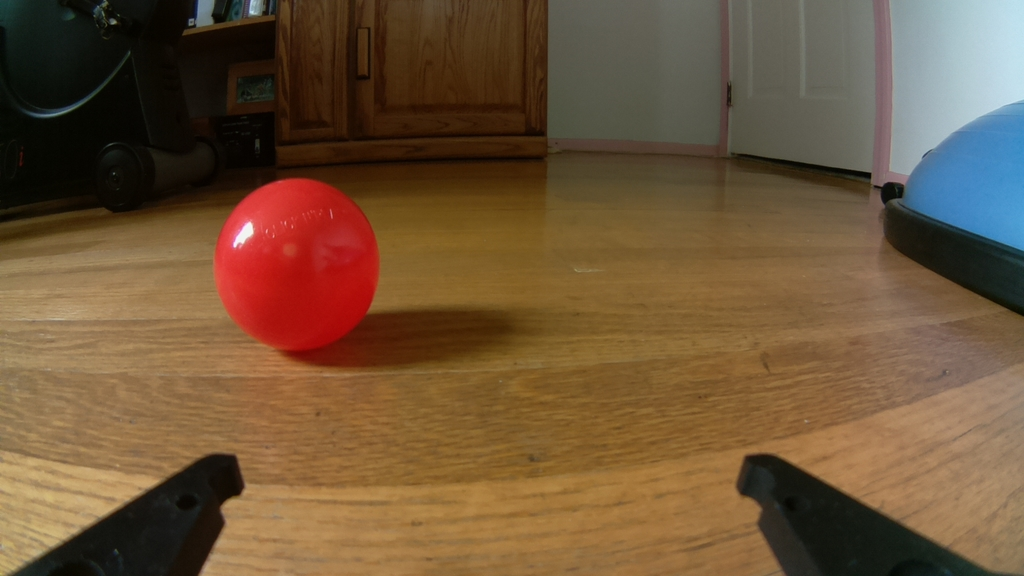ball: (211, 172, 381, 354)
